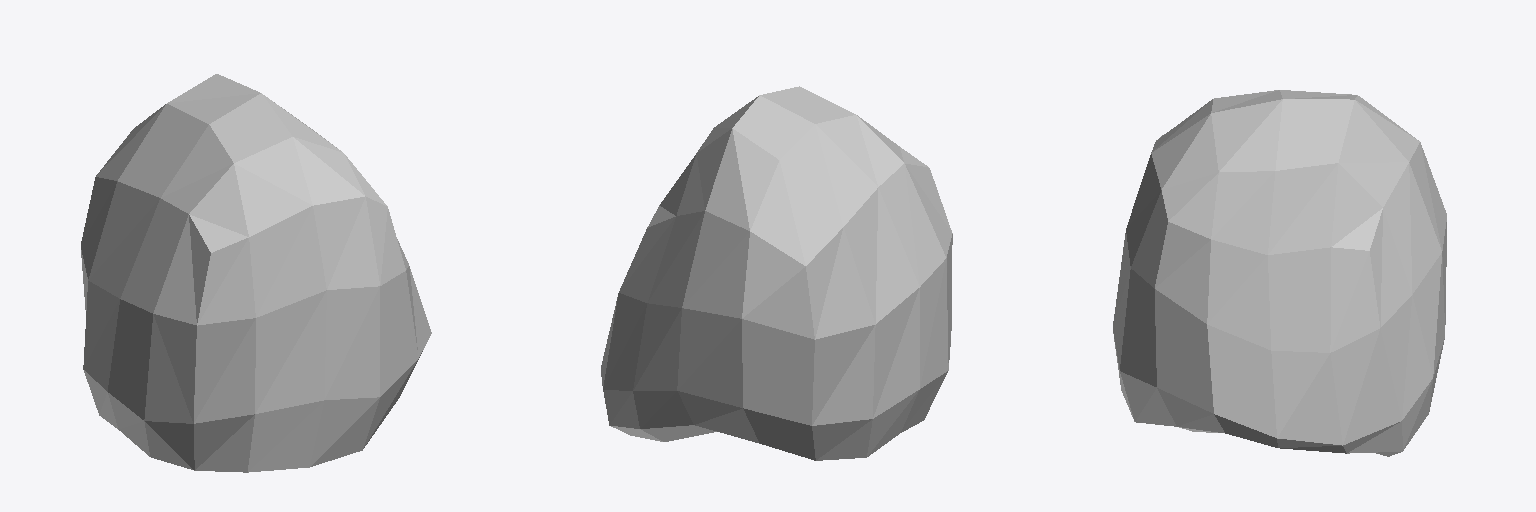
The model's file is Rock_A_01_LOD1.obj.
The picture shows the model from 3 angles: view 1: azimuth 30°, elevation 25°; view 2: azimuth 150°, elevation 25°; view 3: azimuth 270°, elevation 25°; orthographic projection.
Visible parts, largest first — view 1: Rock_A_01_LOD1_Cube.538; view 2: Rock_A_01_LOD1_Cube.538; view 3: Rock_A_01_LOD1_Cube.538.
Boxes of the visible parts, box(x1,y1,x2,y2) form: Rock_A_01_LOD1_Cube.538: box(81, 74, 431, 472); Rock_A_01_LOD1_Cube.538: box(601, 86, 952, 460); Rock_A_01_LOD1_Cube.538: box(1113, 90, 1446, 456).
Bounding box in the file's own units: 2.37 × 2.41 × 2.29.